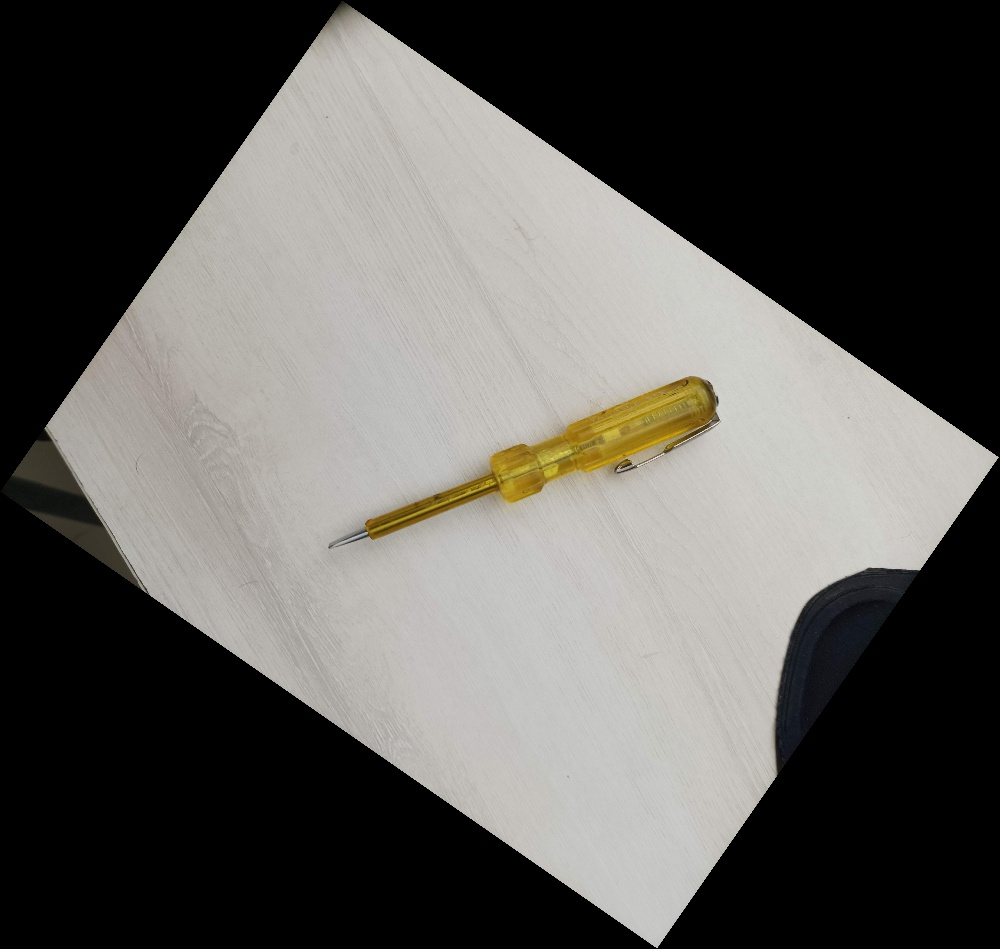screwdriver: (323, 372, 727, 557)
